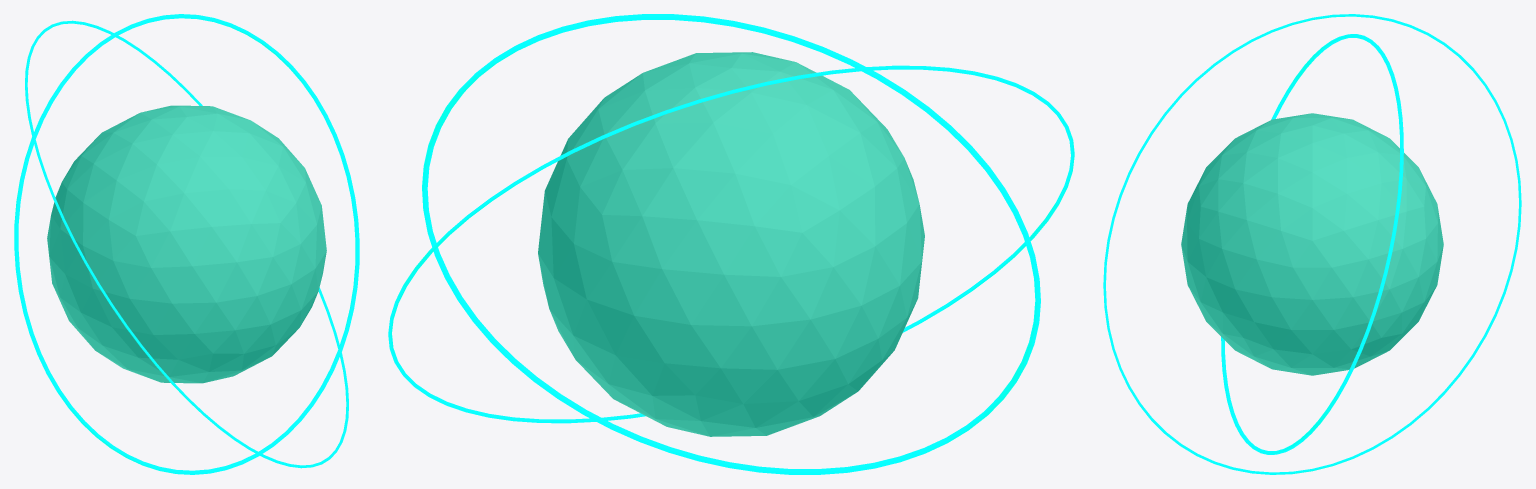
File: crystal-core-transformed.glb
3 views of the same model, side by side, from view 1: azimuth 30°, elevation 25°; view 2: azimuth 150°, elevation 25°; view 3: azimuth 270°, elevation 25° (orthographic). The views are drawn at different scales.
Visible parts, largest first — view 1: CoreShell, OrbitalRing1; view 2: CoreShell, OrbitalRing1; view 3: CoreShell, OrbitalRing1.
Boxes of the visible parts, box(x1,y1,x2,y2) form: CoreShell: box(47, 105, 326, 383); OrbitalRing1: box(14, 14, 359, 474); CoreShell: box(538, 52, 924, 436); OrbitalRing1: box(388, 14, 1074, 474); CoreShell: box(1181, 113, 1443, 375); OrbitalRing1: box(1103, 14, 1521, 474).
Bounding box in the file's own units: 3.13 × 3.04 × 3.14.
